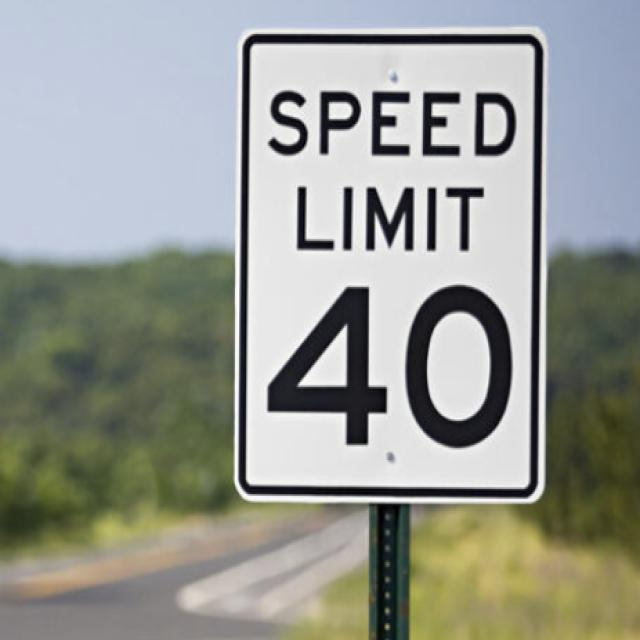speedLimit40: (242, 43, 538, 489)
